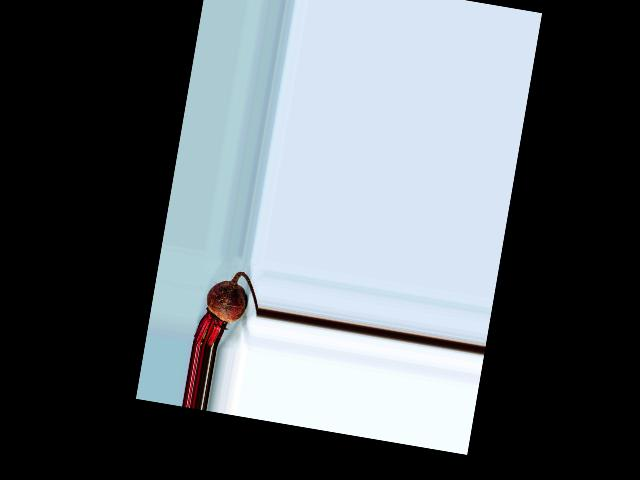beet: (192, 266, 263, 354)
